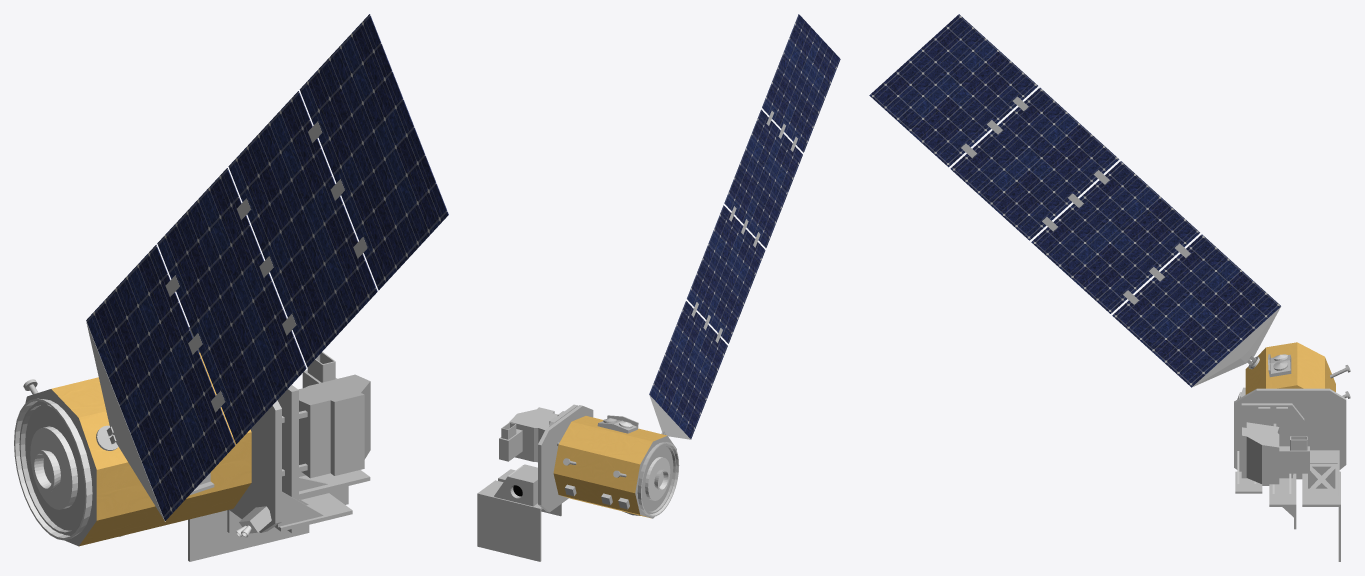
File: landsat.gltf
3 renders of one model, left to right at view 1: azimuth 30°, elevation 25°; view 2: azimuth 150°, elevation 25°; view 3: azimuth 270°, elevation 25°, orthographic. The views are drawn at different scales.
Parts seen in each view (by area): view 1: Cube.009, Cylinder, Cube.017, Cube, Cube.005, Cylinder.011, Cylinder.009, Cube.007, Cube.020, Cube.039, Cube.001, Cylinder.008 (+6 smaller); view 2: Cube.009, Cylinder, Cube.005, Cube, Cube.017, Cube.016, Cylinder.011, Cylinder.009, Cube.007, Cube.018, Cube.039; view 3: Cube.009, Cube, Cylinder, Cube.017, Cube.020, Cube.007, Cube.039, Cube.016, Cube.018, Cube.008, Cube.002.
Part boxes in pixels (left/top/right/bottom): Cube.009: left=86, top=14, right=448, bottom=520; Cylinder: left=25, top=352, right=251, bottom=546; Cube.017: left=298, top=374, right=370, bottom=478; Cube: left=189, top=327, right=281, bottom=532; Cube.005: left=188, top=510, right=309, bottom=561; Cylinder.011: left=30, top=426, right=77, bottom=509; Cylinder.009: left=14, top=398, right=92, bottom=540; Cube.007: left=86, top=321, right=165, bottom=521; Cube.020: left=277, top=385, right=298, bottom=533; Cube.039: left=165, top=121, right=367, bottom=412; Cube.001: left=275, top=493, right=352, bottom=531; Cylinder.008: left=19, top=403, right=84, bottom=534; Cube.009: left=649, top=14, right=840, bottom=439; Cylinder: left=553, top=416, right=676, bottom=518; Cube.005: left=477, top=493, right=541, bottom=561; Cube: left=538, top=405, right=593, bottom=512; Cube.017: left=509, top=407, right=557, bottom=462; Cube.016: left=494, top=464, right=537, bottom=506; Cylinder.011: left=645, top=457, right=670, bottom=500; Cylinder.009: left=637, top=442, right=679, bottom=516; Cube.007: left=649, top=395, right=690, bottom=439; Cube.018: left=499, top=429, right=522, bottom=461; Cube.039: left=691, top=110, right=797, bottom=342; Cube.009: left=869, top=14, right=1280, bottom=387; Cube: left=1234, top=388, right=1346, bottom=479; Cylinder: left=1245, top=342, right=1335, bottom=394; Cube.017: left=1242, top=422, right=1279, bottom=484; Cube.020: left=1241, top=403, right=1304, bottom=485; Cube.007: left=1191, top=307, right=1280, bottom=387; Cube.039: left=961, top=96, right=1190, bottom=304; Cube.016: left=1303, top=450, right=1339, bottom=496; Cube.018: left=1279, top=446, right=1309, bottom=473; Cube.008: left=1305, top=464, right=1337, bottom=496; Cube.002: left=1269, top=473, right=1296, bottom=506.
Size of the model in its own units: 0.8848 by 2.27 by 2.1.
5 materials, 2 textured.
